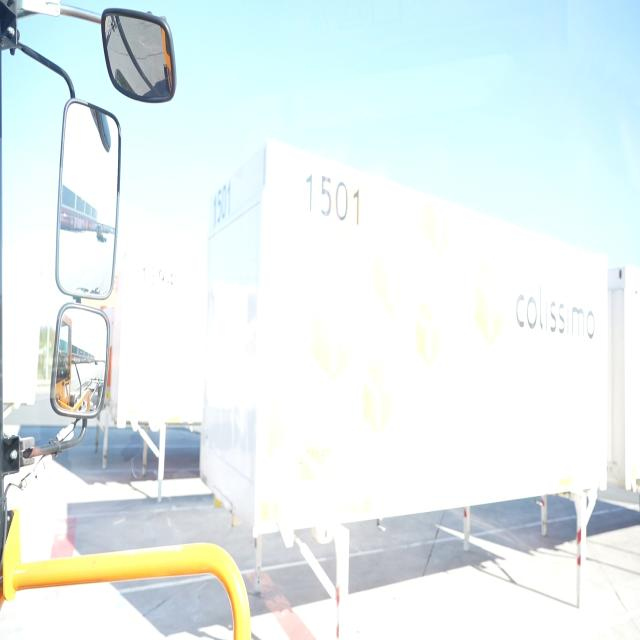Code: (295, 159, 364, 237), (210, 172, 233, 232)
